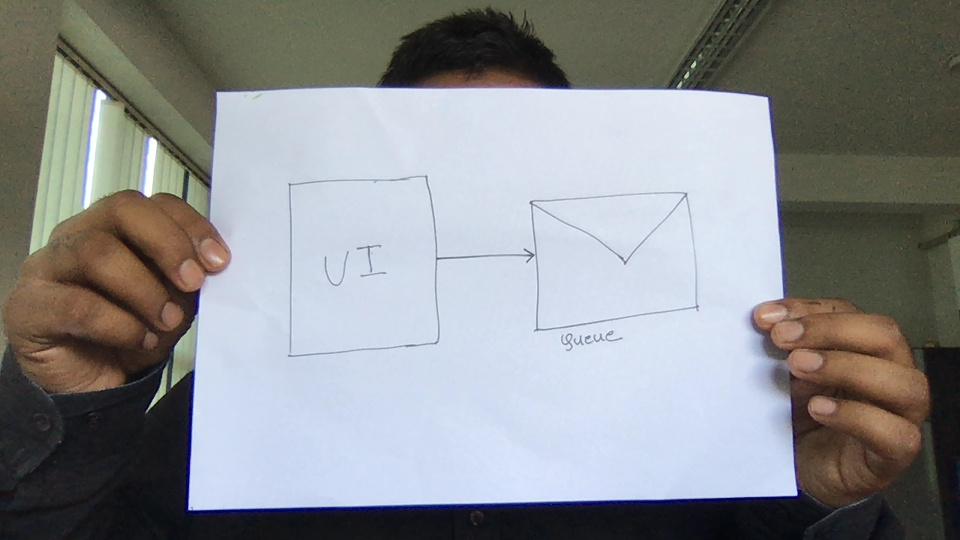sns: (527, 190, 706, 337)
ui: (280, 173, 444, 357)
